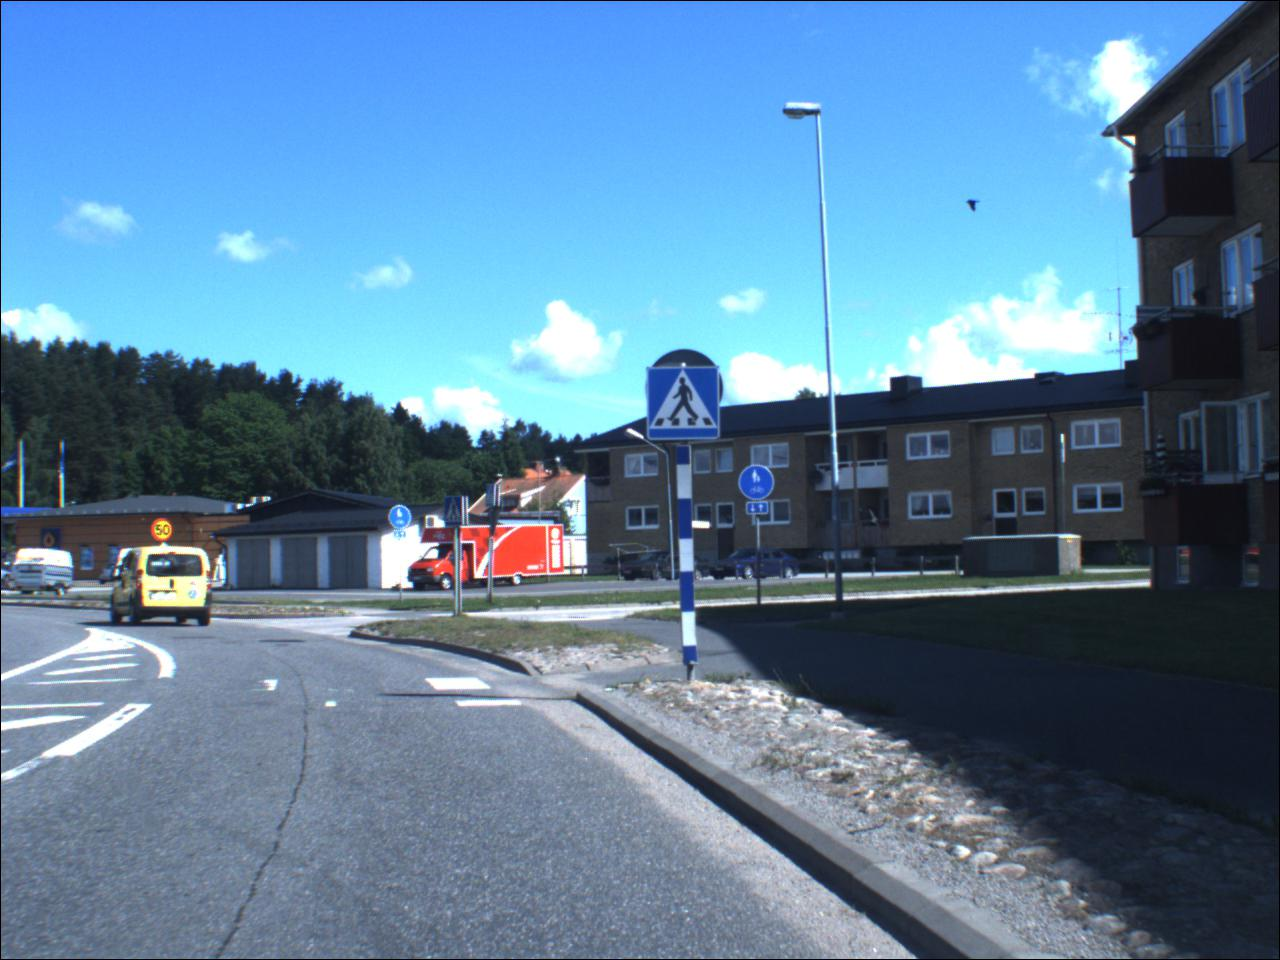50_SIGN: (151, 518, 176, 545)
PEDESTRIAN_CROSSING: (649, 366, 720, 443), (447, 499, 464, 527), (488, 486, 497, 507)
